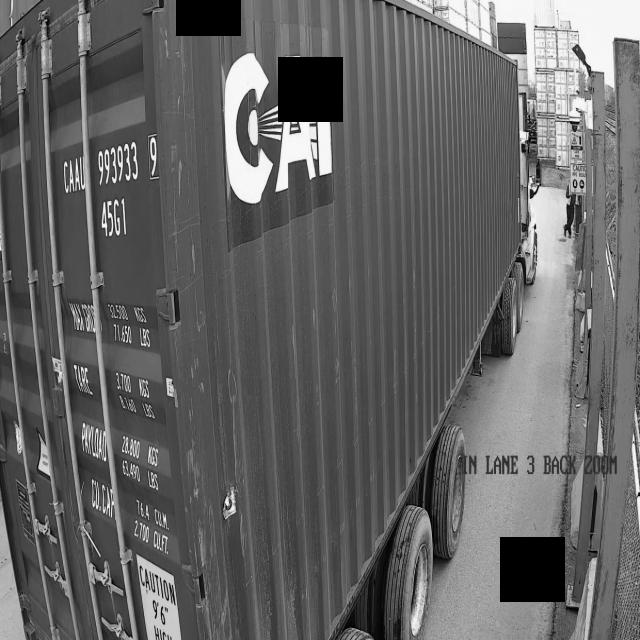container_company_logo: (211, 14, 368, 241)
container_number: (55, 112, 182, 640)
truck_with_container: (0, 0, 540, 640)
